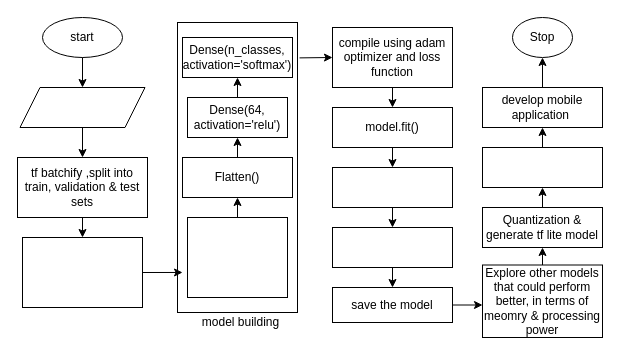
This 620x355 diagram has some shape labels left out. The shapes that lost their labels are listed below. From the top down, each one's centre as x and y in pixels, then its label:
At point (82, 107): "data visualization & Eda".
At point (392, 187): "plot accuracy and loss curves Vs NUmber ofepochs".
At point (542, 167): "Use GCP".
At point (237, 257): "applying convolution layer follwed by maxpooling iterativley(6)".
At point (392, 247): "run prediction on a few radnom samples".
At point (82, 272): "data preprocessing (cache, shuffle, prefetch, resize, rescale, augumentation)".
